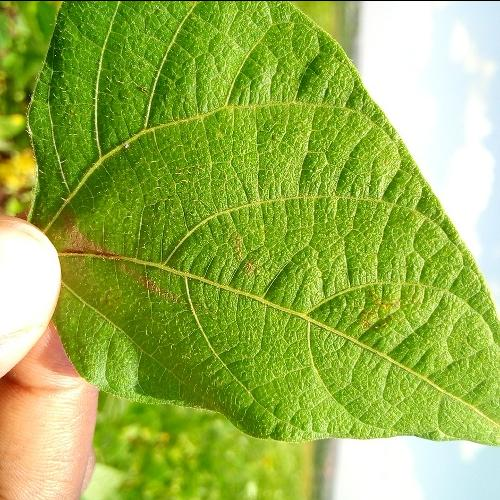hawar: (62, 188, 190, 324), (348, 296, 458, 406), (194, 222, 282, 292)
